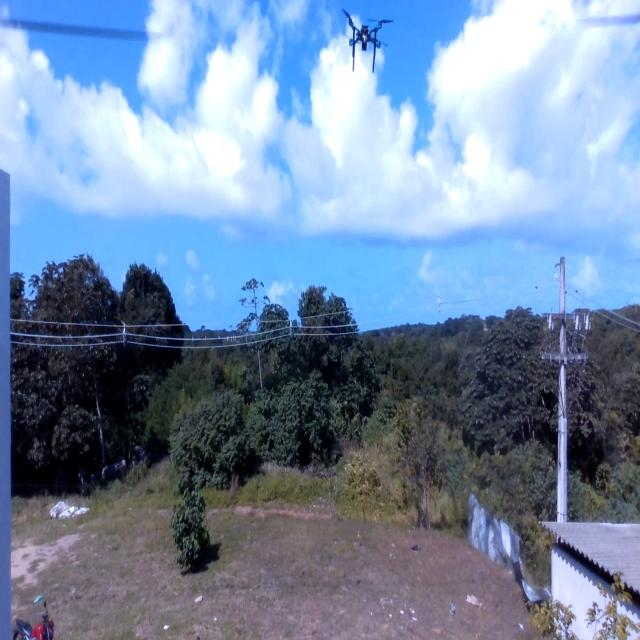-uav-: (339, 3, 396, 95)
